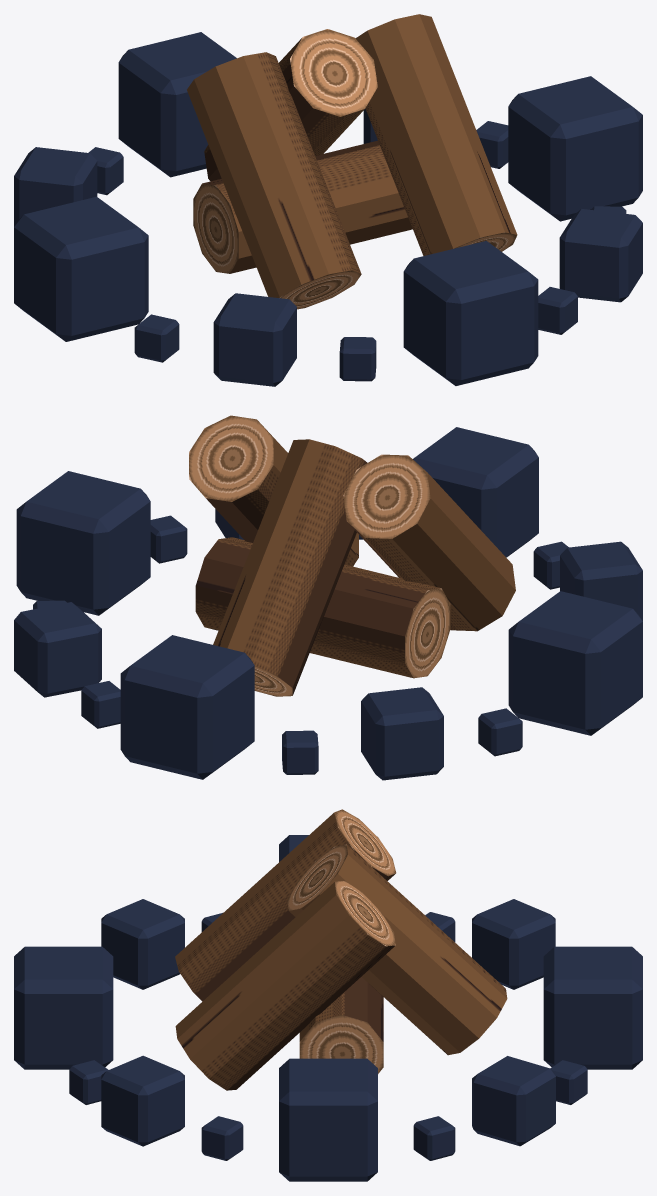
Rendered from Hoguera.fbx.
3 views of the same model, one above another, from view 1: azimuth 30°, elevation 25°; view 2: azimuth 150°, elevation 25°; view 3: azimuth 270°, elevation 25° (orthographic). The views are drawn at different scales.
Visible parts, largest first — view 1: Hoguera; view 2: Hoguera; view 3: Hoguera.
Part boxes in pixels (left/top/right/bottom): Hoguera: left=14, top=14, right=642, bottom=386; Hoguera: left=14, top=415, right=642, bottom=780; Hoguera: left=14, top=809, right=642, bottom=1181.
Bounding box in the file's own units: 950 × 950 × 339.
Materials: 2 (2 with a texture image).
